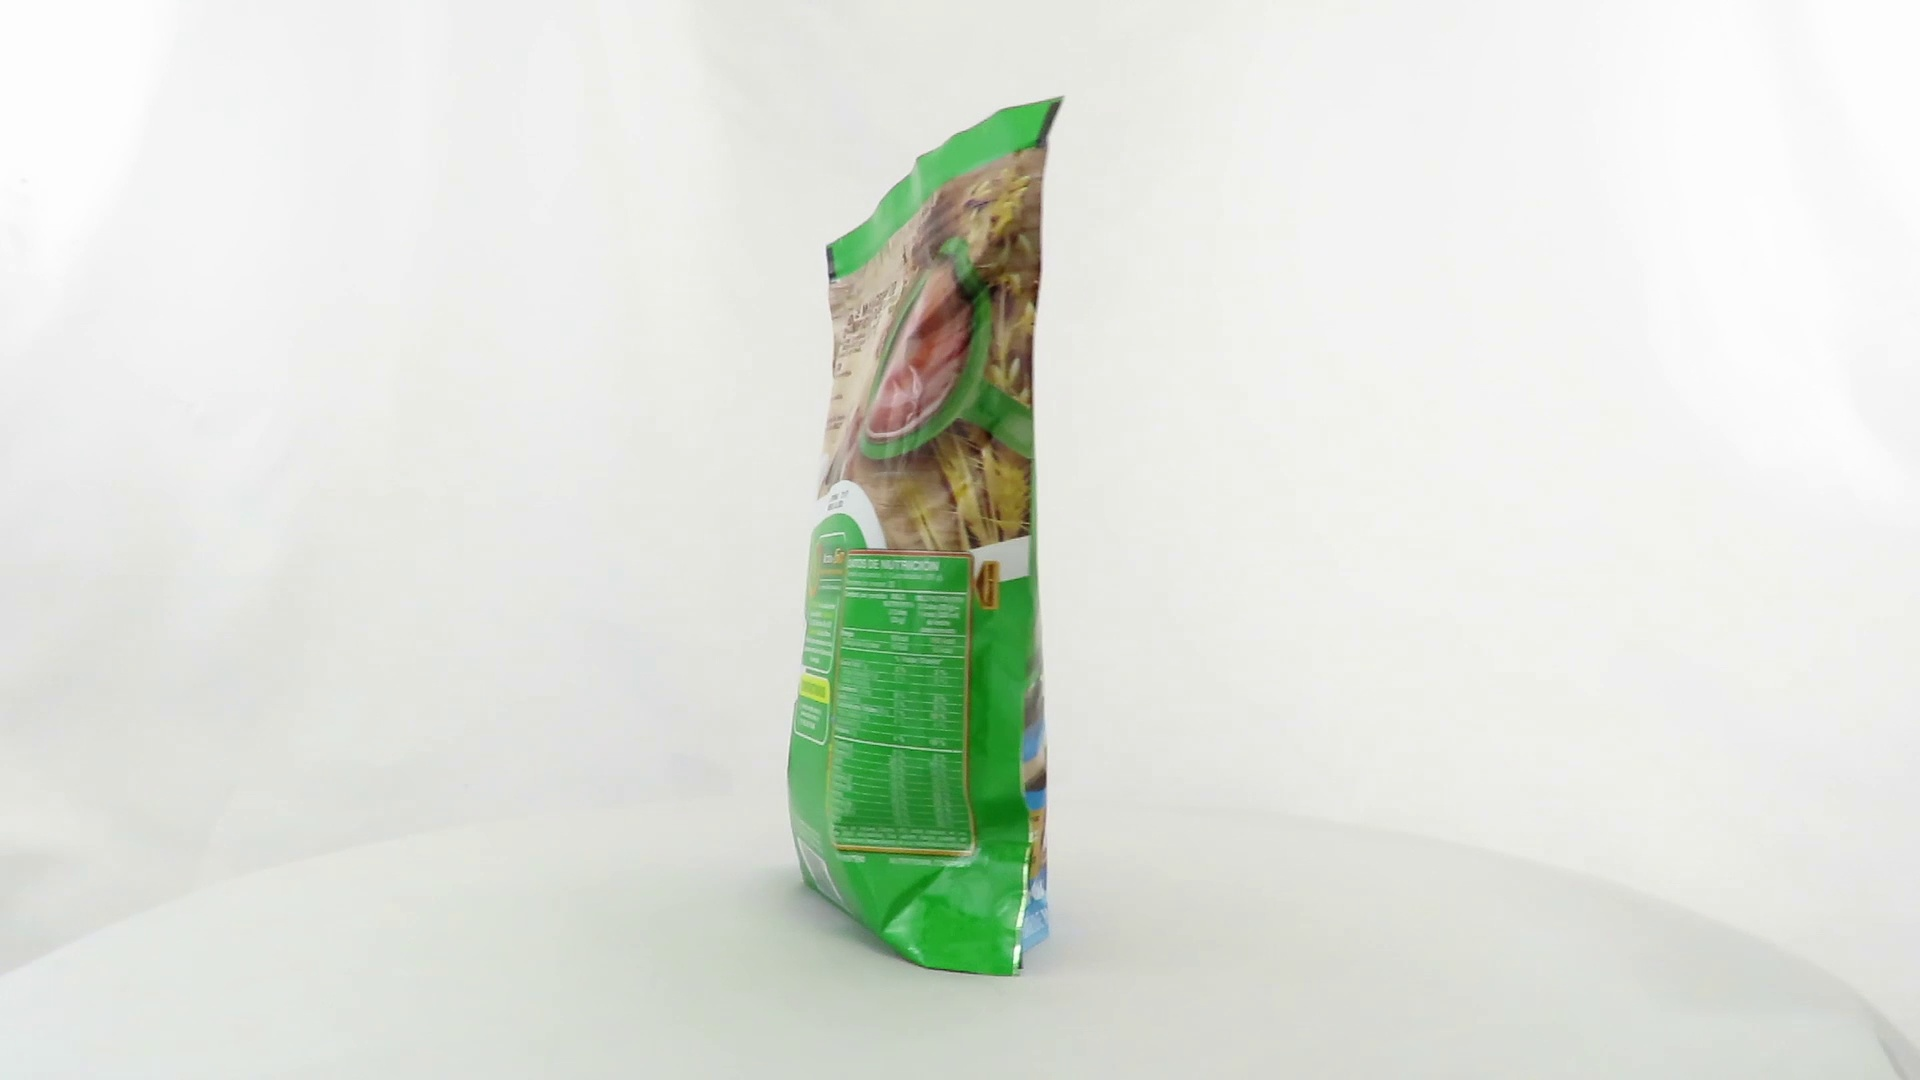COL0170205DYP50000: (782, 90, 1069, 984)
